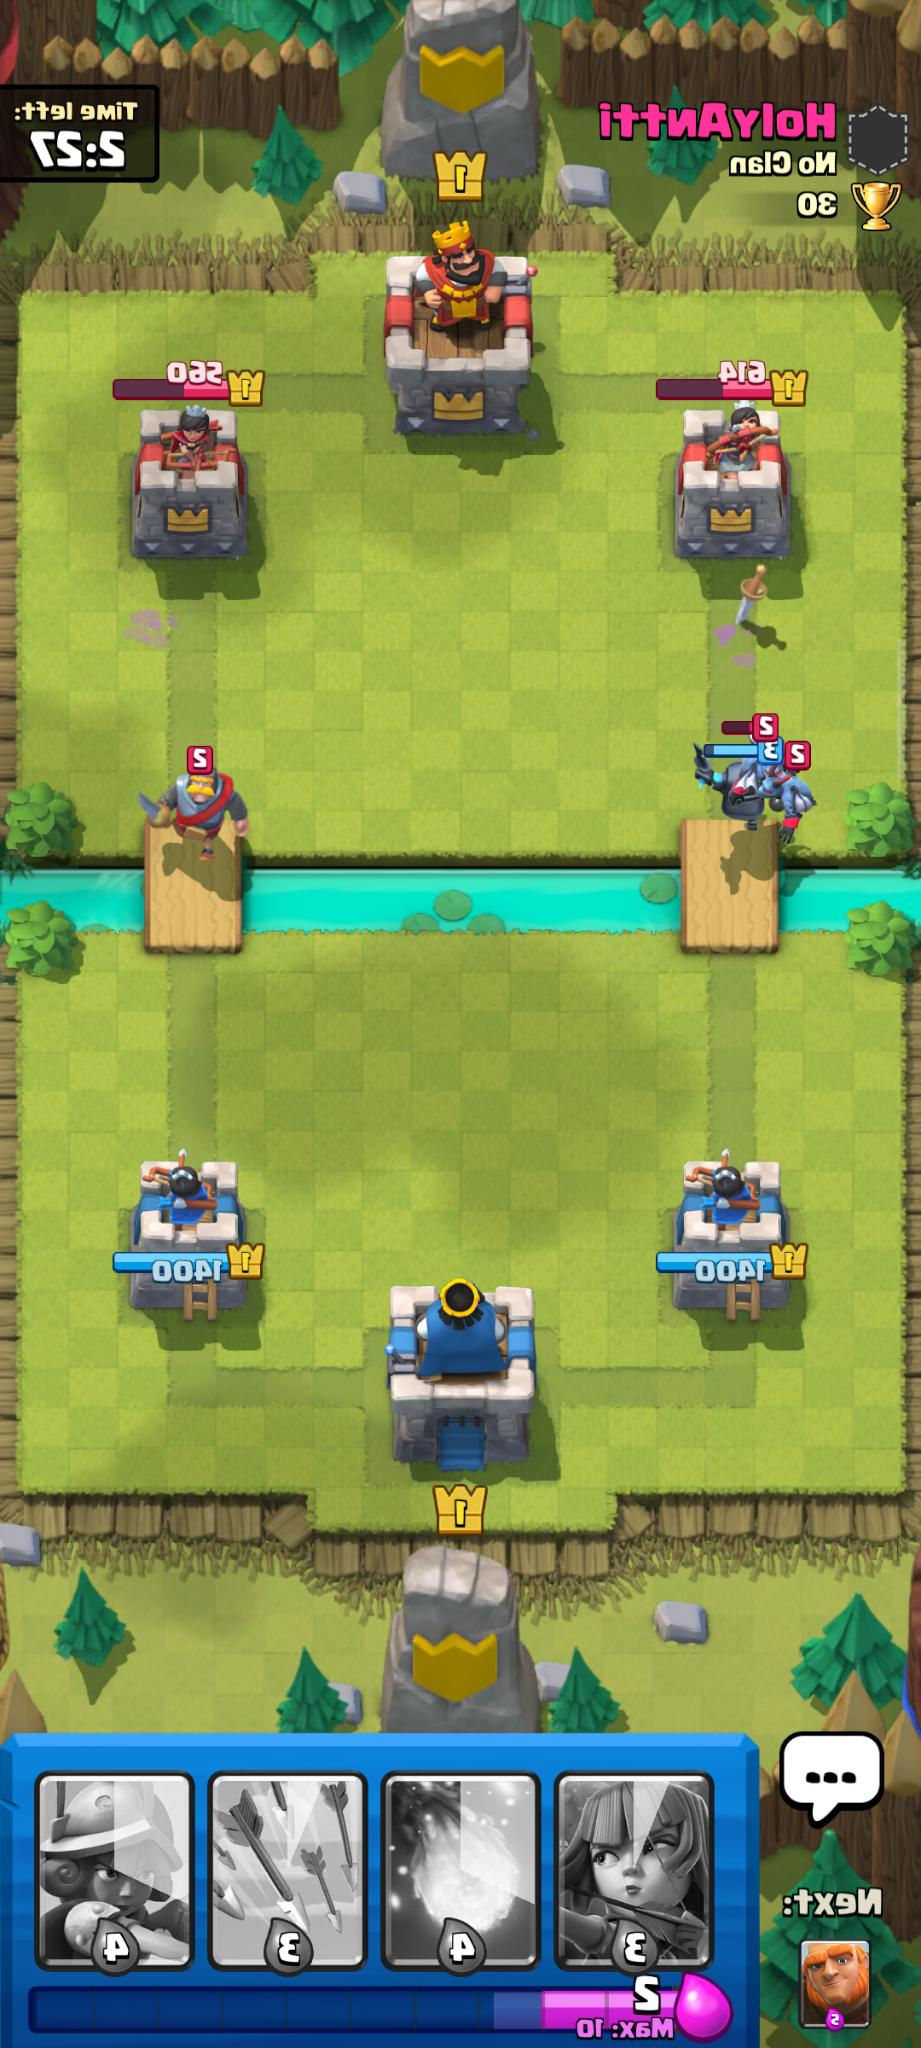chevalier: (141, 750, 250, 876)
gargouille: (772, 775, 814, 832), (743, 758, 783, 808)
mini_PEKKA: (721, 760, 767, 833)
